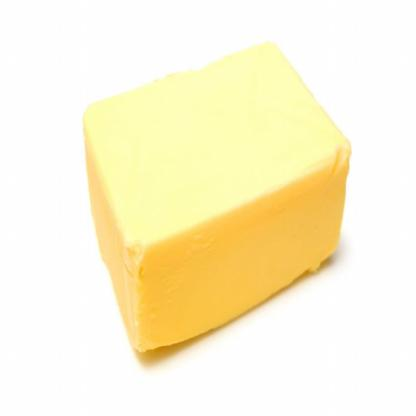butter: (78, 43, 351, 362)
